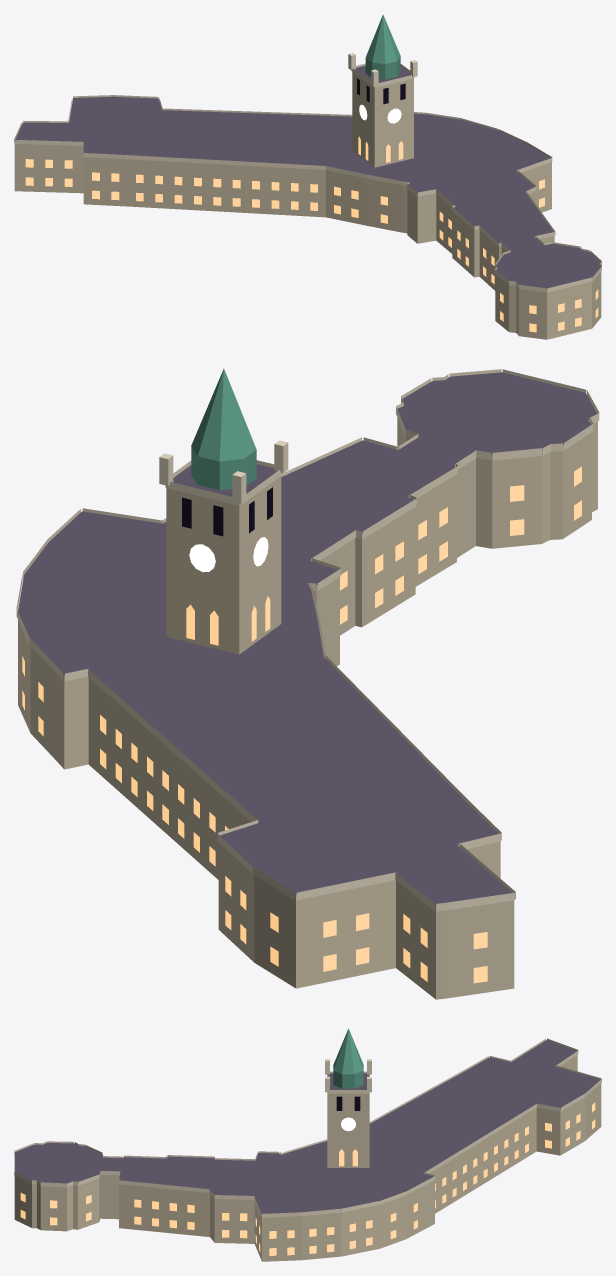
File: middlesex-college.glb
3 renders of one model, top to bottom at view 1: azimuth 30°, elevation 25°; view 2: azimuth 150°, elevation 25°; view 3: azimuth 270°, elevation 25°, orthographic. The views are drawn at different scales.
Parts seen in each view (by area): view 1: middlesex-college-0; view 2: middlesex-college-0; view 3: middlesex-college-0.
Part boxes in pixels (x1,y1,x2,y2): middlesex-college-0: [14, 14, 601, 339]; middlesex-college-0: [16, 368, 599, 999]; middlesex-college-0: [14, 1028, 601, 1261].
Size of the model in its own units: 72.92 by 34.5 by 103.
